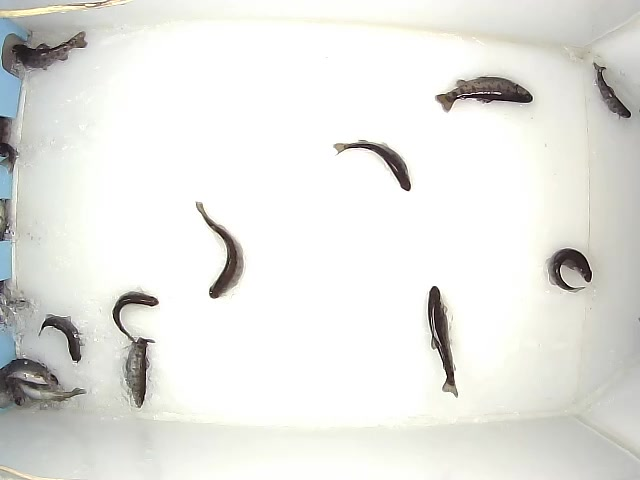fish: (195, 201, 244, 299), (333, 140, 411, 192), (427, 285, 459, 399), (435, 76, 533, 113), (12, 30, 88, 71), (112, 291, 159, 344), (12, 370, 87, 403), (124, 337, 156, 408), (592, 62, 631, 120), (38, 313, 82, 364), (545, 248, 592, 293), (1, 357, 59, 386)
